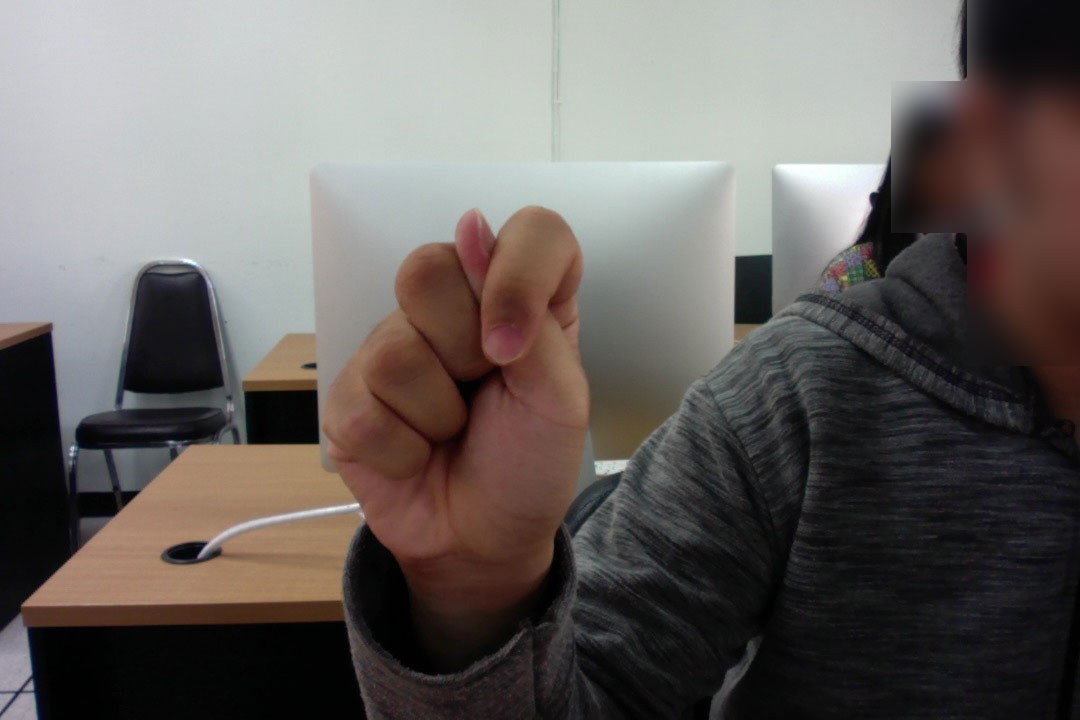tor: (318, 204, 593, 585)
